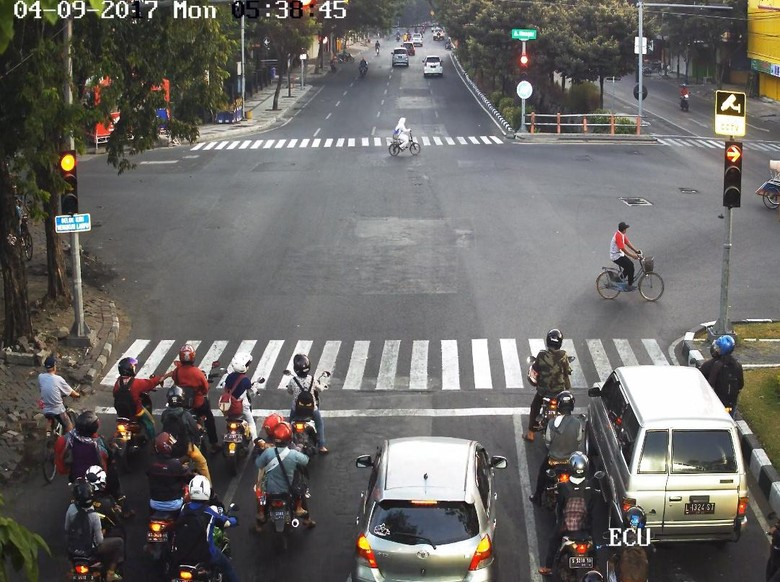car: (585, 366, 745, 546), (352, 433, 493, 582), (425, 55, 445, 76), (392, 48, 408, 68)
motorbike: (148, 402, 198, 572), (255, 413, 313, 552), (545, 454, 602, 582), (65, 465, 127, 580), (169, 478, 236, 582), (163, 344, 219, 463), (533, 396, 587, 509), (215, 350, 267, 460), (70, 411, 124, 516), (526, 327, 567, 446), (285, 353, 330, 460), (112, 352, 155, 462), (704, 332, 742, 432), (680, 83, 689, 111)
